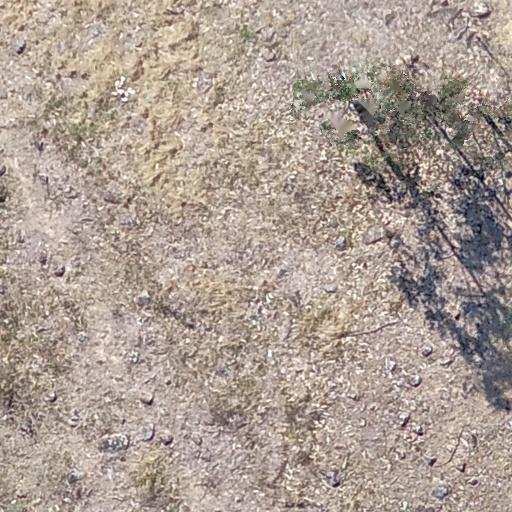stone: (98, 435, 127, 451), (322, 470, 341, 488), (474, 0, 492, 18), (139, 387, 155, 406), (140, 425, 156, 443), (67, 469, 84, 485), (383, 357, 397, 375), (136, 290, 152, 305), (432, 485, 450, 498), (408, 373, 424, 387), (333, 235, 347, 251), (262, 46, 278, 60), (43, 390, 58, 404), (190, 432, 204, 446), (322, 282, 338, 294), (421, 344, 435, 357), (127, 350, 140, 364), (76, 330, 89, 344), (439, 356, 454, 368), (413, 424, 426, 436), (161, 434, 174, 446), (68, 415, 80, 428), (16, 42, 28, 55), (400, 413, 411, 427), (425, 455, 437, 467), (54, 265, 66, 277), (347, 392, 361, 402), (456, 462, 466, 474), (467, 476, 479, 486), (396, 450, 407, 460), (164, 377, 173, 387)
